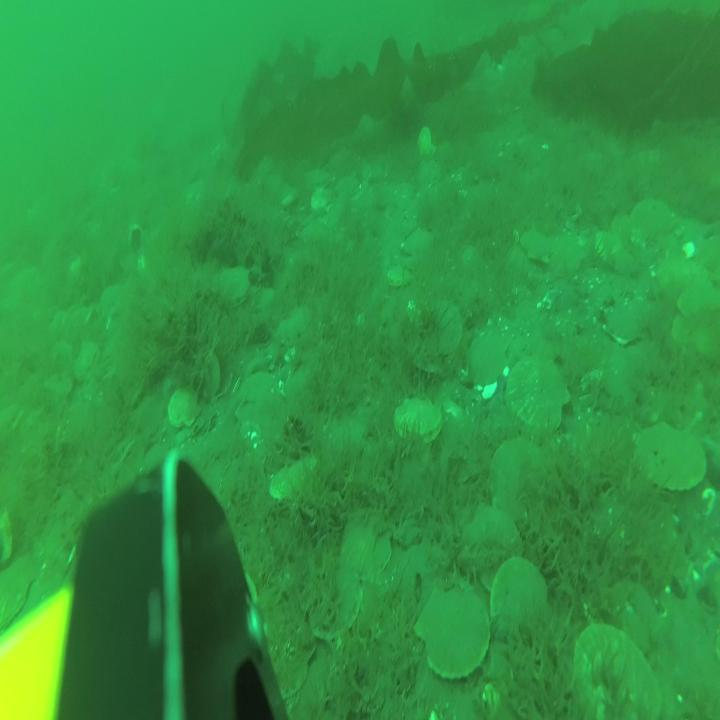scallop: (576, 619, 664, 708), (418, 584, 488, 683), (632, 417, 708, 496), (508, 353, 574, 438), (489, 556, 548, 644), (306, 560, 364, 644), (490, 436, 548, 519), (343, 505, 396, 579), (460, 319, 515, 387), (268, 614, 314, 694), (413, 295, 463, 362), (1, 548, 38, 628), (393, 393, 444, 448), (270, 458, 314, 513), (633, 190, 675, 240), (596, 228, 638, 276), (213, 264, 253, 314), (606, 293, 645, 344), (166, 383, 201, 430), (609, 210, 645, 255), (193, 346, 222, 400), (75, 336, 101, 384), (520, 226, 551, 264), (404, 230, 435, 264), (417, 157, 444, 191), (385, 261, 416, 290), (306, 160, 335, 189), (415, 125, 435, 160), (339, 169, 361, 198), (312, 185, 332, 212)
